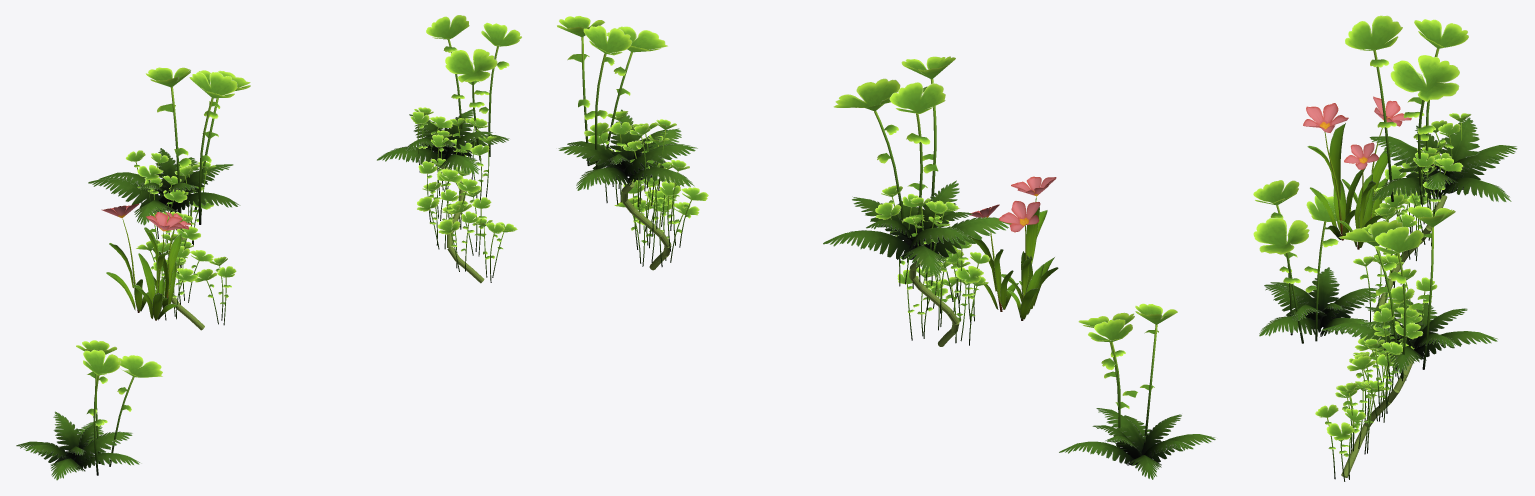
The model's file is A_Woodland_Log_Greenery.glb.
3 renders of one model, left to right at view 1: azimuth 30°, elevation 25°; view 2: azimuth 150°, elevation 25°; view 3: azimuth 270°, elevation 25°, orthographic. The views are drawn at different scales.
Visible parts, largest first — view 1: Patch_01, Patch_00, Patch_02, Patch_03; view 2: Patch_00, Patch_01, Patch_02, Patch_03; view 3: Patch_00, Patch_01, Patch_02, Patch_03.
Boxes of the visible parts, x1,y1,x2,y2 form: Patch_01: [376, 15, 521, 283]; Patch_00: [88, 67, 250, 330]; Patch_02: [16, 340, 162, 480]; Patch_03: [101, 203, 190, 320]; Patch_00: [823, 56, 1011, 346]; Patch_01: [556, 15, 708, 270]; Patch_02: [1059, 303, 1215, 479]; Patch_03: [966, 176, 1058, 320]; Patch_00: [1345, 15, 1517, 322]; Patch_01: [1315, 205, 1497, 481]; Patch_02: [1253, 180, 1379, 343]; Patch_03: [1303, 96, 1411, 249].
Bounding box in the file's own units: 2.89 × 1.76 × 1.09.
5 materials, 4 textured.
